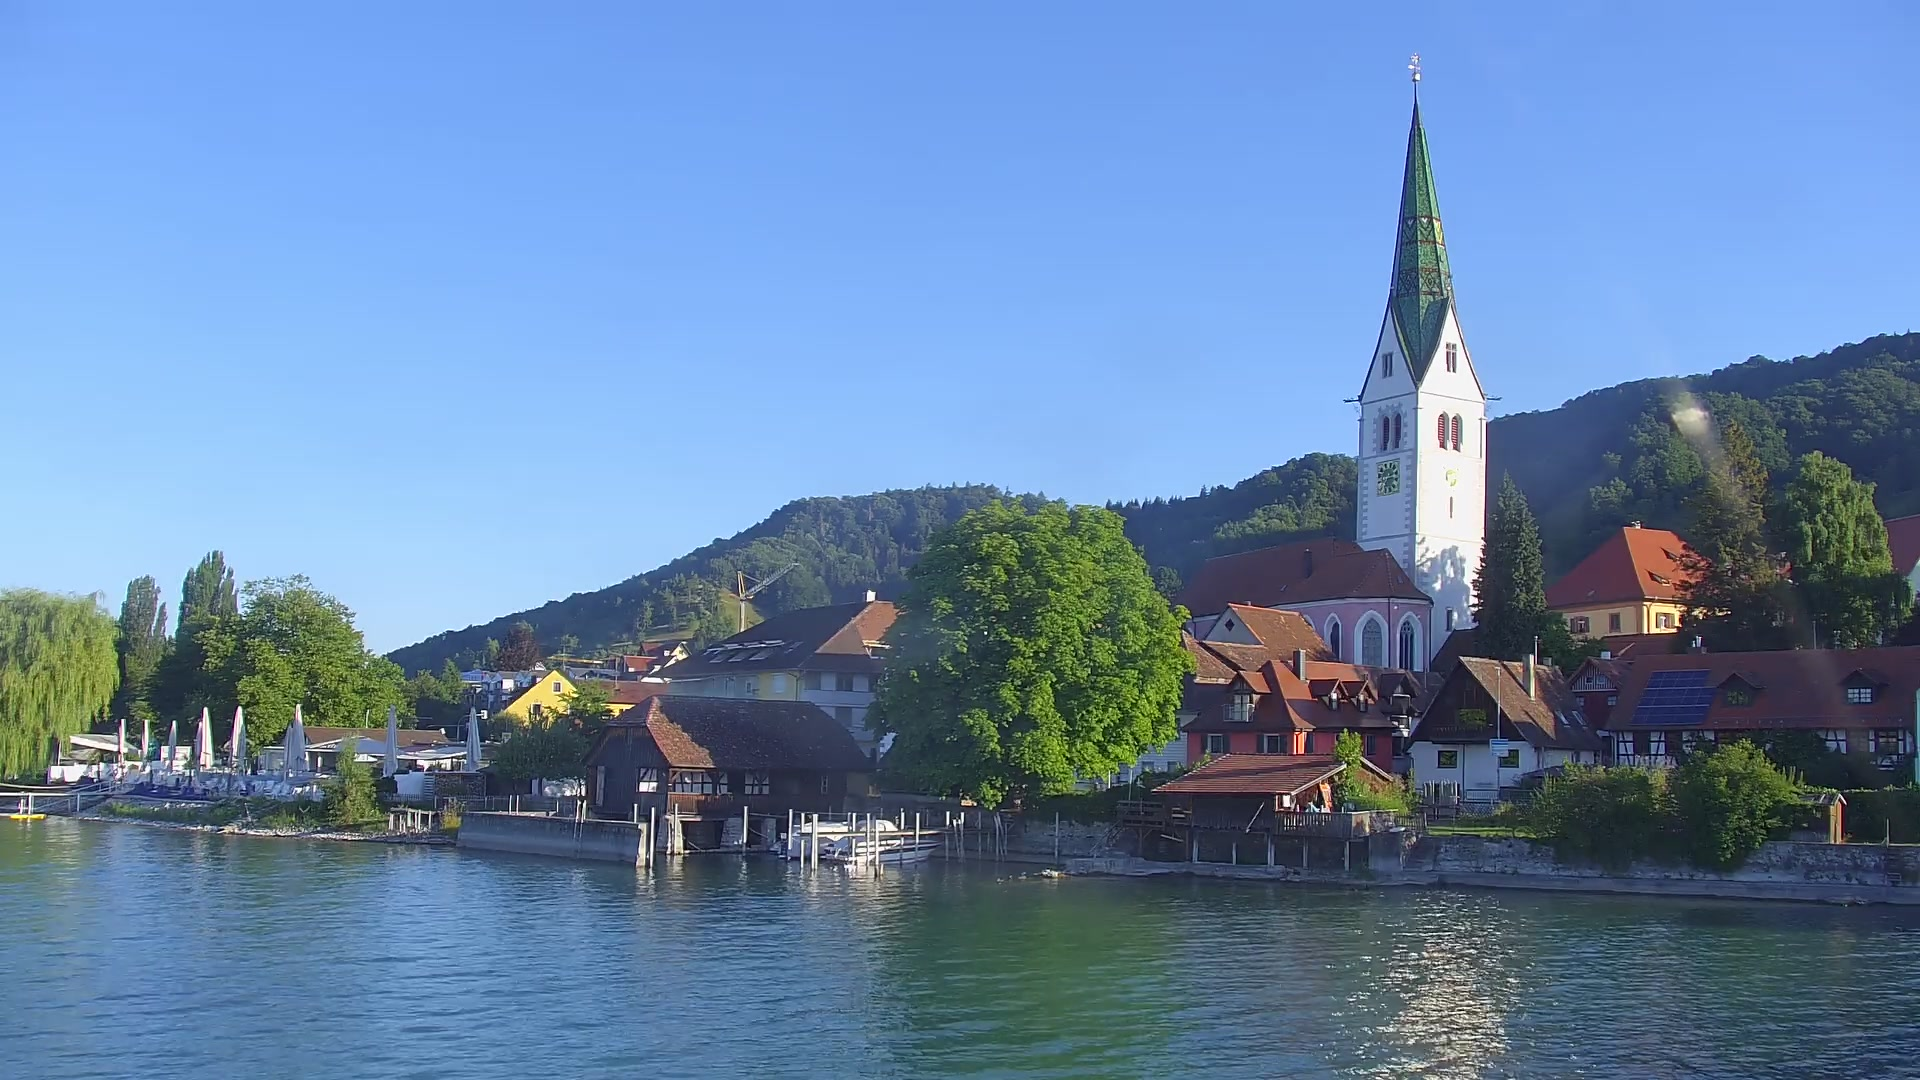sea: (822, 819, 943, 864)
